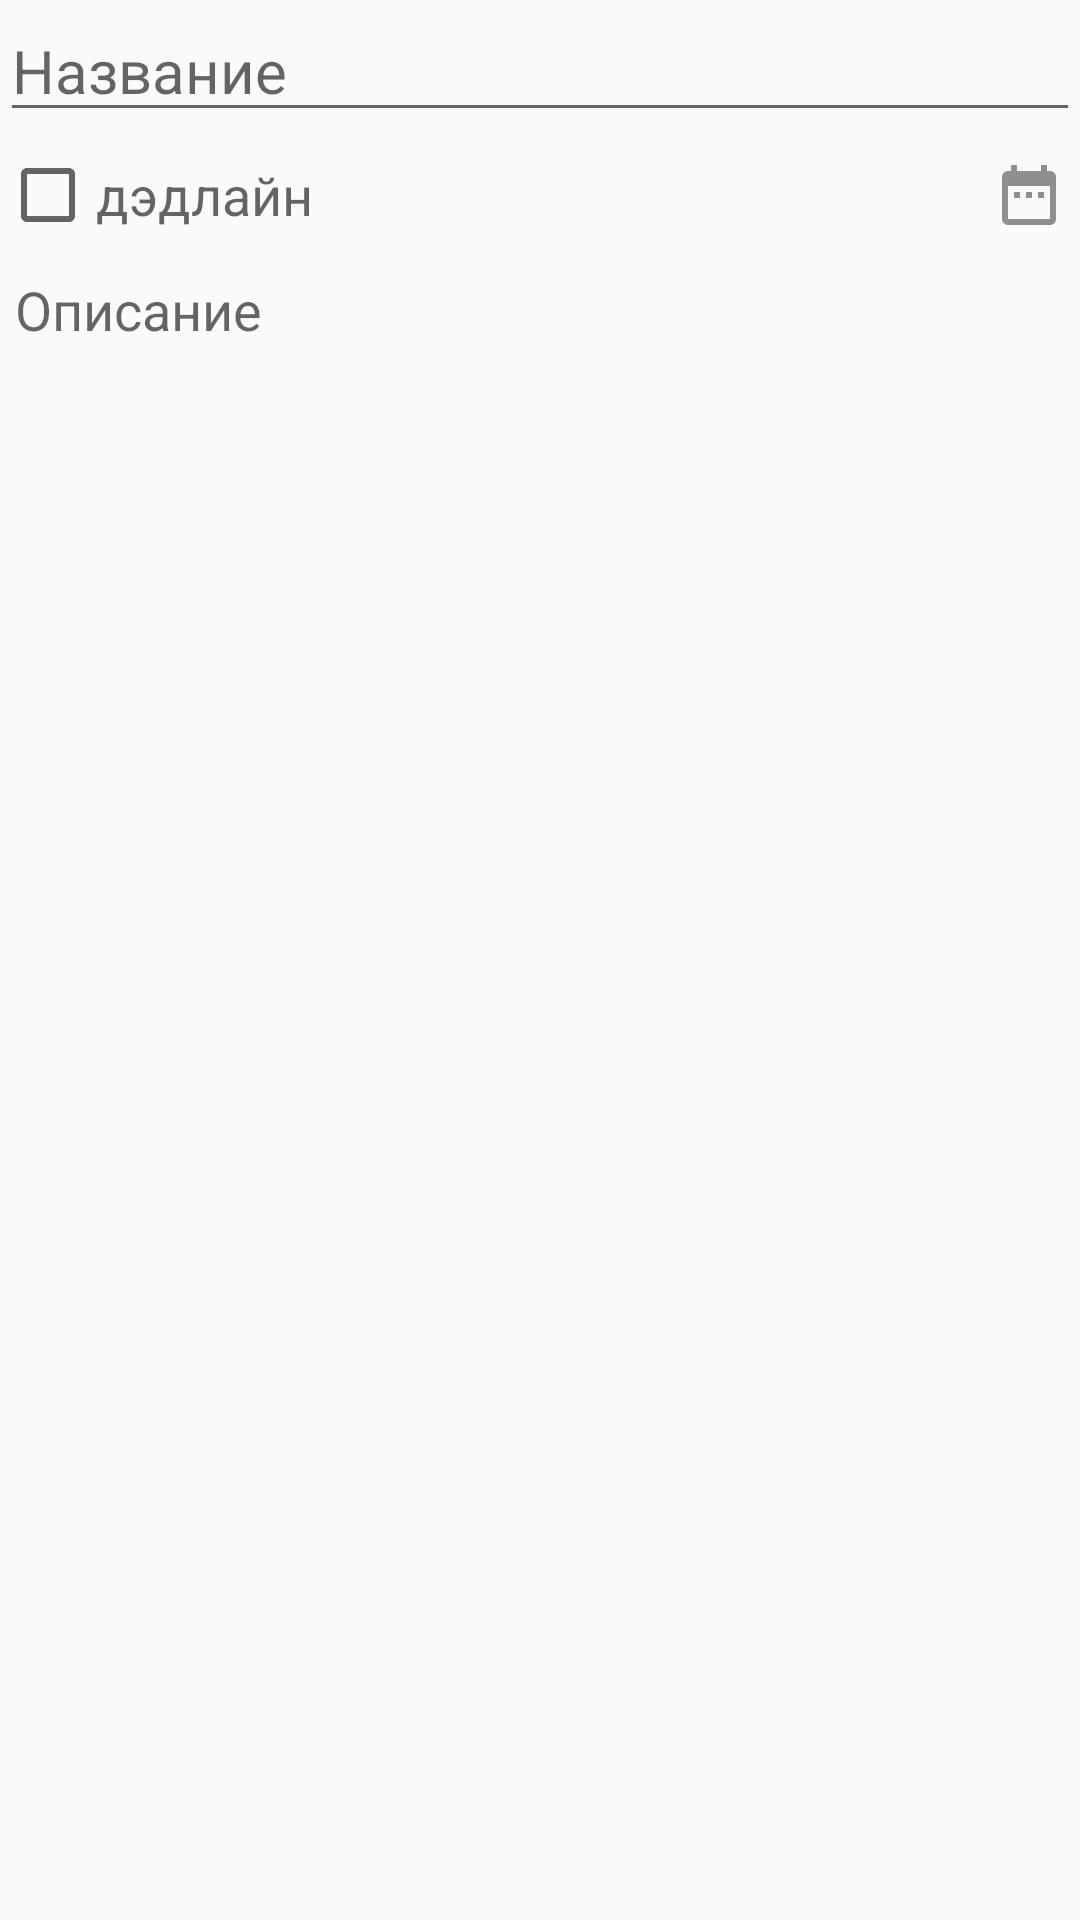

Screen size 1080px x 1920px. Icon name, then its center in pixels as point (x, y):
ded line date range: point (1029, 195)
